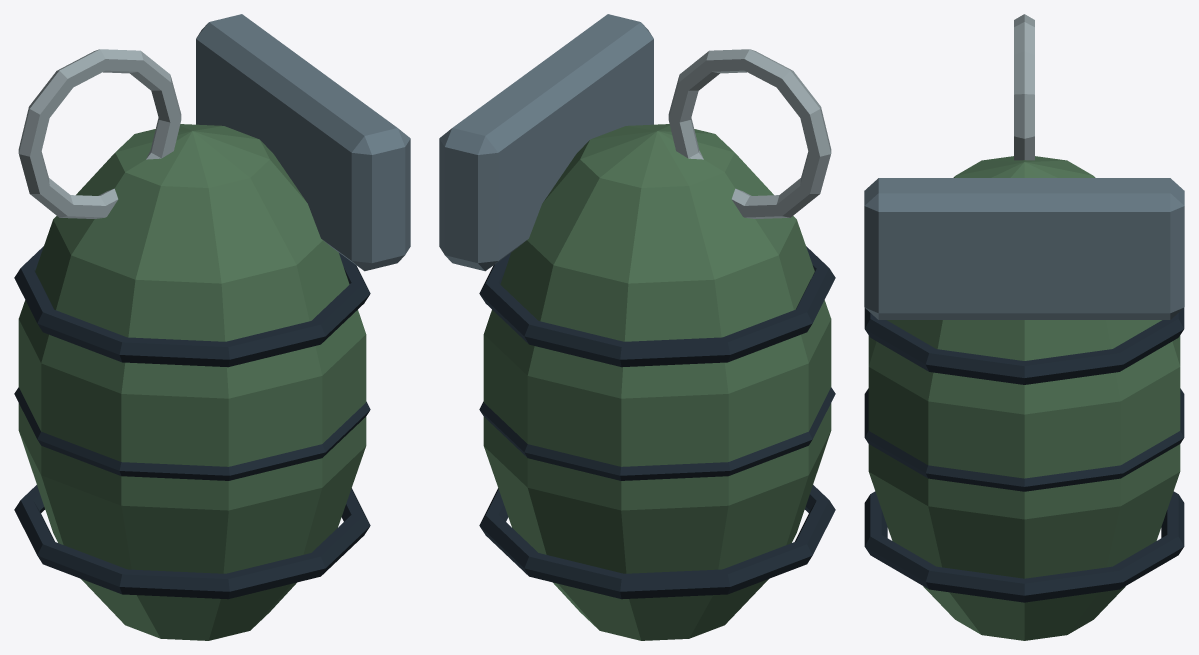
The model's file is fps-grenade.lod0.glb.
3 renders of one model, left to right at view 1: azimuth 30°, elevation 25°; view 2: azimuth 150°, elevation 25°; view 3: azimuth 270°, elevation 25°, orthographic. The views are drawn at different scales.
Visible parts, largest first — view 1: fps-grenade__body; view 2: fps-grenade__body; view 3: fps-grenade__body.
Part boxes in pixels (x1,y1,x2,y2): fps-grenade__body: (14, 14, 410, 640); fps-grenade__body: (439, 14, 835, 640); fps-grenade__body: (864, 14, 1184, 640).
Size of the model in its own units: 0.089 by 0.157 by 0.08.
